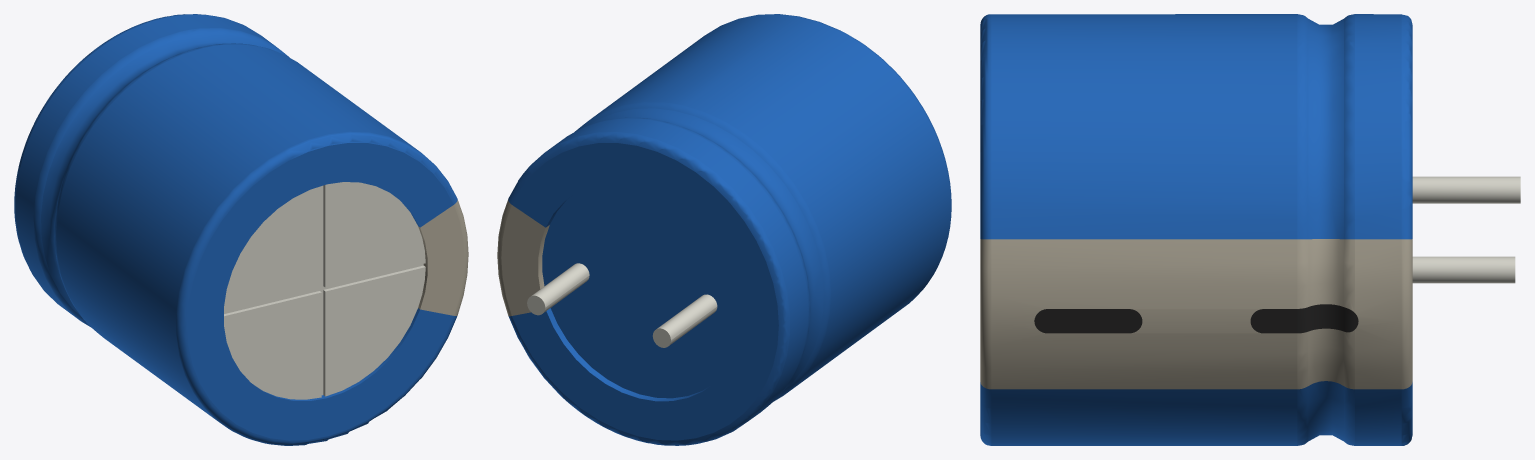
The model's file is Capacitor_THT_CP_Radial_D8.0mm_P3.50mm.glb.
3 views of the same model, side by side, from view 1: azimuth 30°, elevation 25°; view 2: azimuth 150°, elevation 25°; view 3: azimuth 270°, elevation 25° (orthographic). The views are drawn at different scales.
Size of the model in its own units: 8 by 8 by 10.
